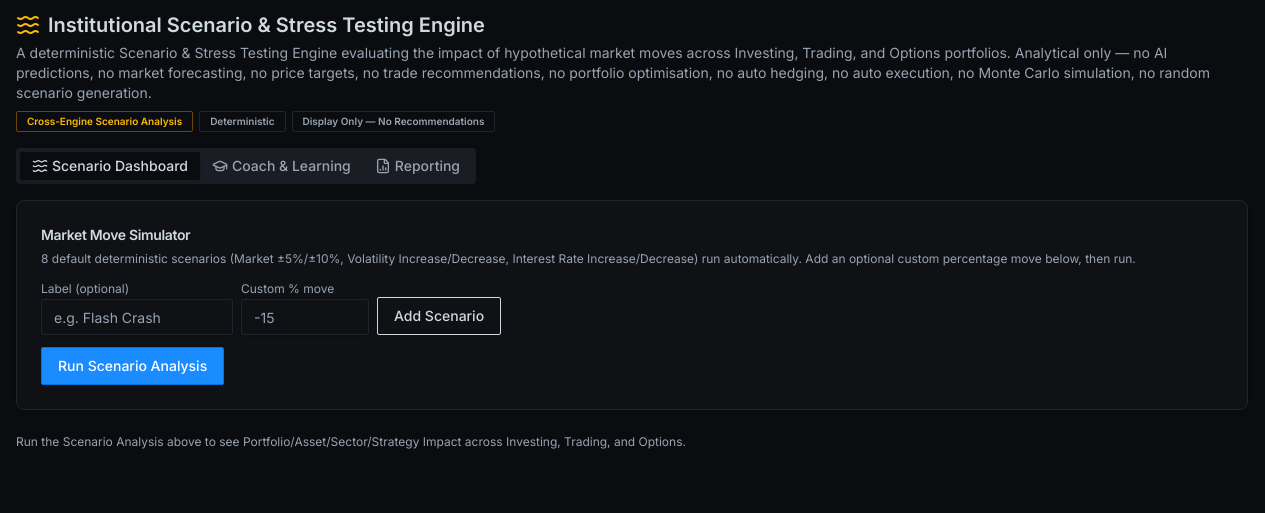
ScenarioEngine › renders the Coach & Learning tab with real topics and Learning Centre links, never a trade recommendation
Click the tab with test id "tab-se-learning".
click(281, 166)  # box [200,152,363,180]
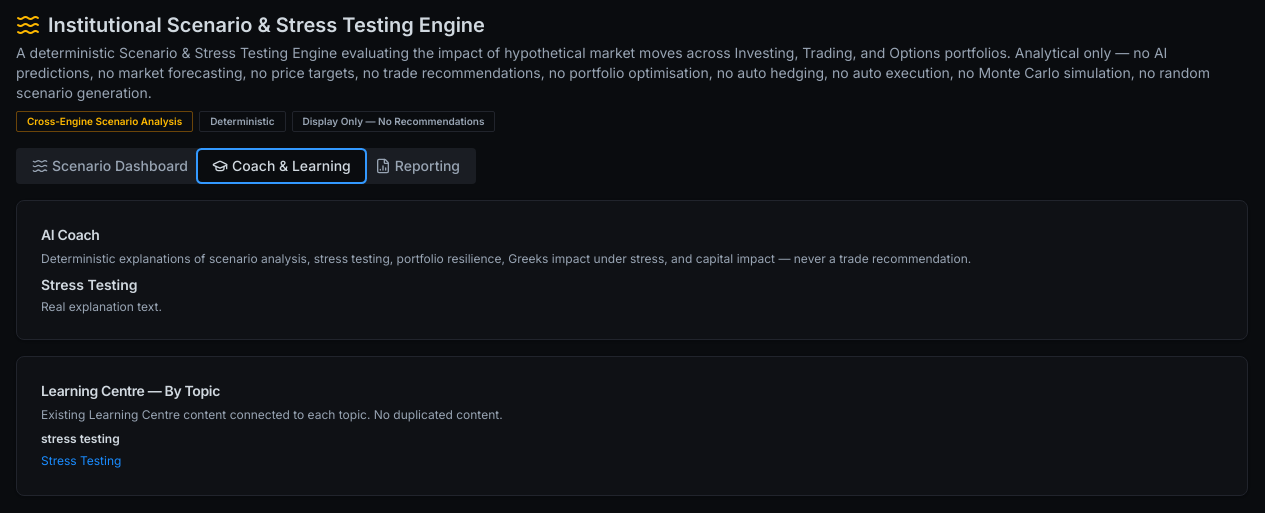
Check: the element with test id "coach-topic-stress_testing" is shown, box [41,276,162,314]
Check: the element with test id "learning-topic-stress_testing" is shown, box [41,431,121,468]
Check: the link with test id "learning-link-portfolio-portfolio-stress-testing" is shown, box [41,453,121,468]
